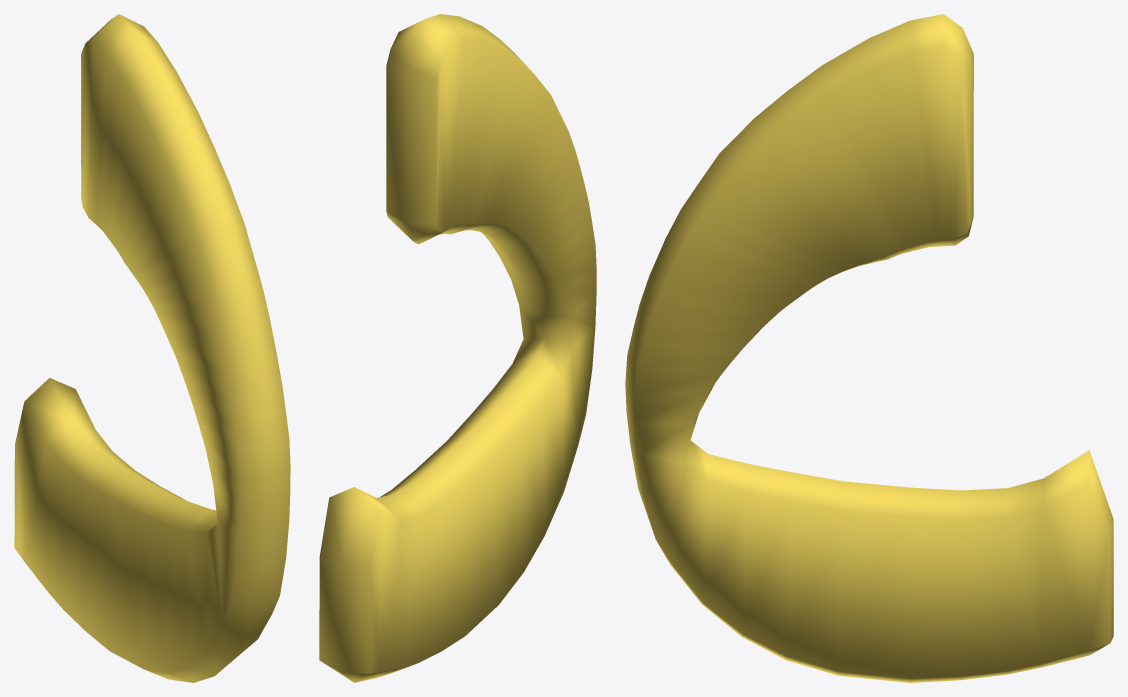
Rendered from dal.FBX.
3 renders of one model, left to right at view 1: azimuth 30°, elevation 25°; view 2: azimuth 150°, elevation 25°; view 3: azimuth 270°, elevation 25°, orthographic. The views are drawn at different scales.
Parts seen in each view (by area): view 1: dal; view 2: dal; view 3: dal.
Boxes of the visible parts, x1,y1,x2,y2 form: dal: (14,14,290,682); dal: (319,14,596,682); dal: (625,14,1113,682).
Size of the model in its own units: 14.97 by 117 by 177.
Materials: 1 (1 with a texture image).
